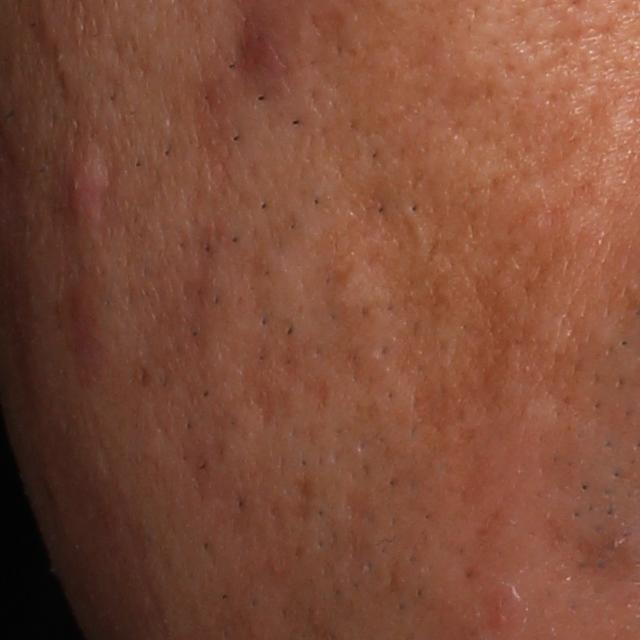papule: (65, 146, 108, 223)
